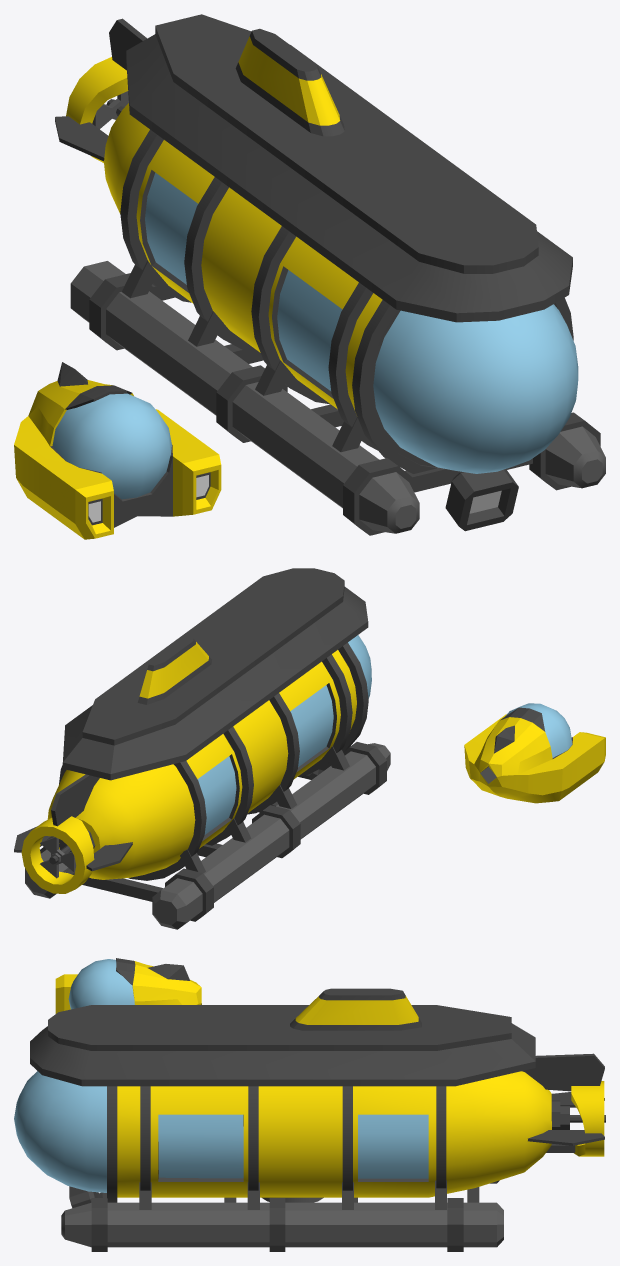
Rendered from Submarines.fbx.
3 renders of one model, top to bottom at view 1: azimuth 30°, elevation 25°; view 2: azimuth 150°, elevation 25°; view 3: azimuth 270°, elevation 25°, orthographic. The views are drawn at different scales.
Visible parts, largest first — view 1: Large Submarine, Large Windows, Mini Sub, Small Windows; view 2: Large Submarine, Mini Sub, Large Windows, Small Windows, Propellor; view 3: Large Submarine, Large Windows, Mini Sub, Small Windows.
Part boxes in pixels (x1=…): Large Submarine: x1=55, y1=14, x2=605, y2=535; Large Windows: x1=145, y1=172, x2=578, y2=473; Mini Sub: x1=14, y1=362, x2=221, y2=539; Small Windows: x1=52, y1=393, x2=171, y2=499; Large Submarine: x1=14, y1=568, x2=390, y2=929; Mini Sub: x1=464, y1=707, x2=605, y2=803; Large Windows: x1=197, y1=635, x2=371, y2=834; Small Windows: x1=505, y1=703, x2=572, y2=757; Propellor: x1=40, y1=837, x2=76, y2=878; Large Submarine: x1=30, y1=988, x2=605, y2=1251; Large Windows: x1=14, y1=1071, x2=428, y2=1192; Mini Sub: x1=55, y1=958, x2=201, y2=1013; Small Windows: x1=68, y1=959, x2=134, y2=1009.
Bounding box in the file's own units: 1091 × 631 × 1462.
